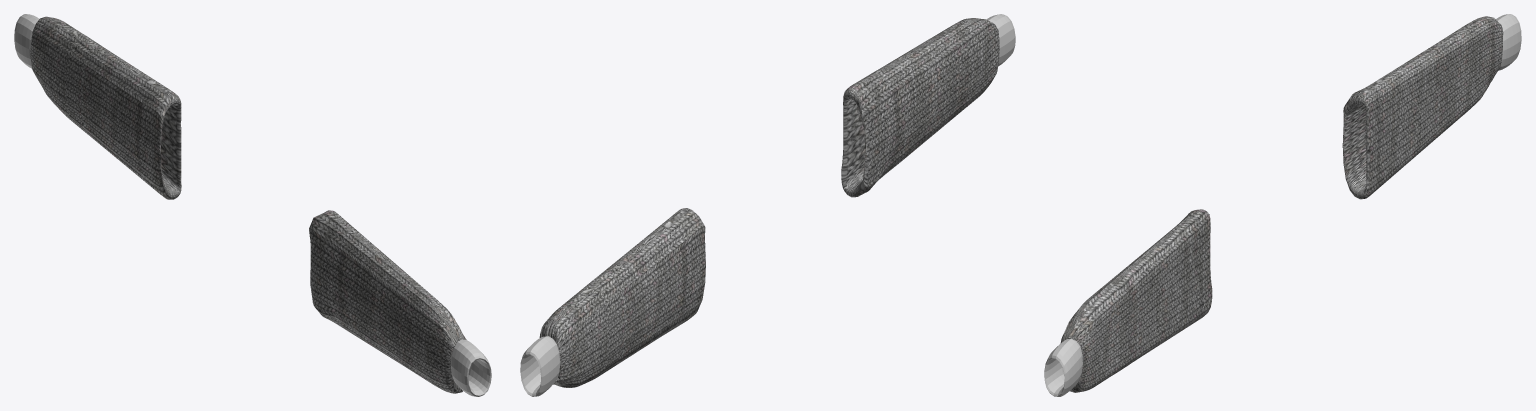
The model's file is drop-sleeve-long.fbx.
3 views of the same model, side by side, from view 1: azimuth 30°, elevation 25°; view 2: azimuth 150°, elevation 25°; view 3: azimuth 330°, elevation 25° (orthographic). The views are drawn at different scales.
Visible parts, largest first — view 1: Cube.002, Cube.005, Cube.006, Cube.003; view 2: Cube.002, Cube.005, Cube.003, Cube.006; view 3: Cube.002, Cube.005, Cube.006, Cube.003.
Boxes of the visible parts, x1=… form: Cube.002: x1=30, y1=16, x2=181, y2=199; Cube.005: x1=309, y1=210, x2=466, y2=393; Cube.006: x1=450, y1=339, x2=491, y2=396; Cube.003: x1=14, y1=14, x2=39, y2=68; Cube.002: x1=539, y1=208, x2=705, y2=387; Cube.005: x1=841, y1=18, x2=999, y2=197; Cube.003: x1=520, y1=336, x2=560, y2=396; Cube.006: x1=986, y1=14, x2=1015, y2=66; Cube.002: x1=1342, y1=16, x2=1503, y2=199; Cube.005: x1=1060, y1=209, x2=1212, y2=392; Cube.006: x1=1044, y1=338, x2=1082, y2=396; Cube.003: x1=1496, y1=14, x2=1521, y2=70.
Bounding box in the file's own units: 17.99 × 57.67 × 449.
